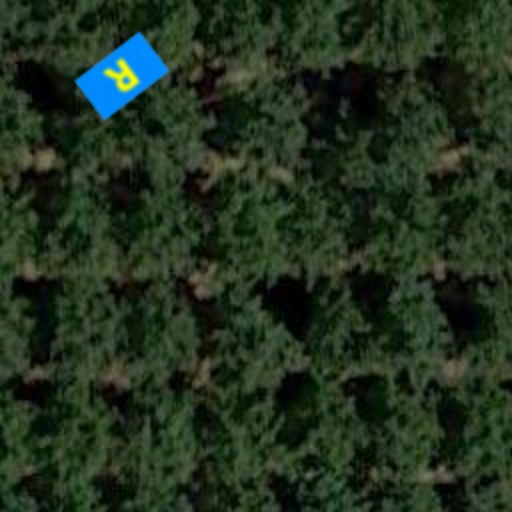rectangle: (64, 18, 180, 134)
